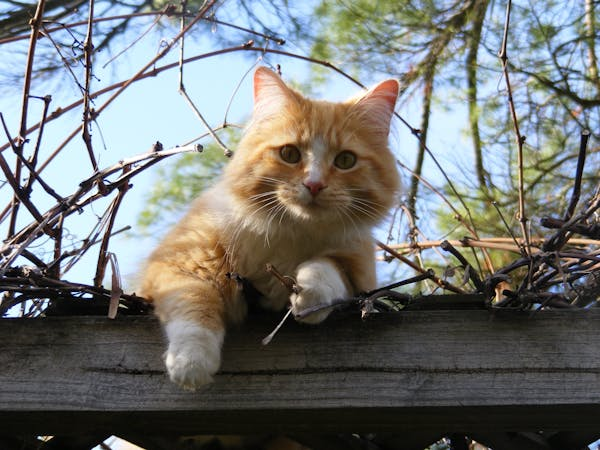Cat: (143, 66, 402, 390)
